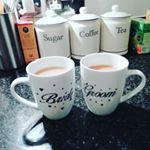cups: (8, 54, 77, 121), (78, 51, 148, 117)
